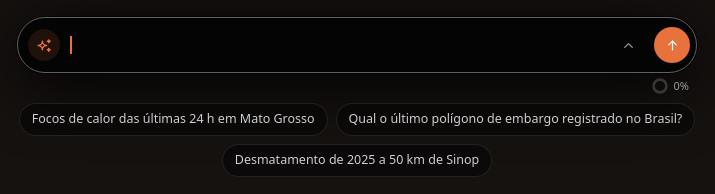
Barra de comando — hero › um chip preenche o campo; apagar tudo traz a sugestão de volta
Click the button "Qual o último polígono de embargo registrado no Brasil?".
click(515, 119)  # box left=336, top=103, right=695, bottom=136
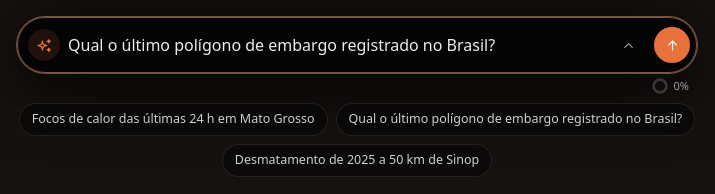
Check: the element with test id "sugestao" is gone
Clear the field named "Mensagem para o assistente" at (335, 45), box left=68, top=33, right=602, bottom=57
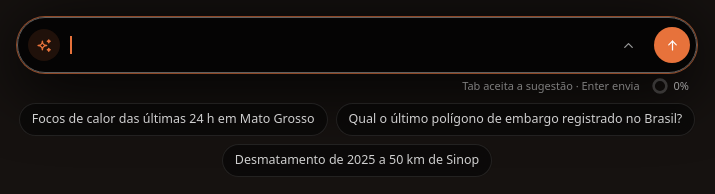
Check: the element with test id "sugestao" is shown, box left=70, top=36, right=72, bottom=54
